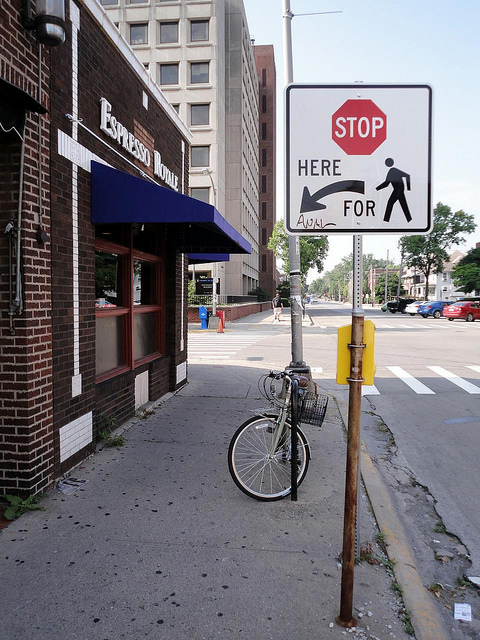Stop: (329, 102, 389, 155)
Zebra Crossing: (384, 359, 480, 394), (188, 331, 248, 359)
